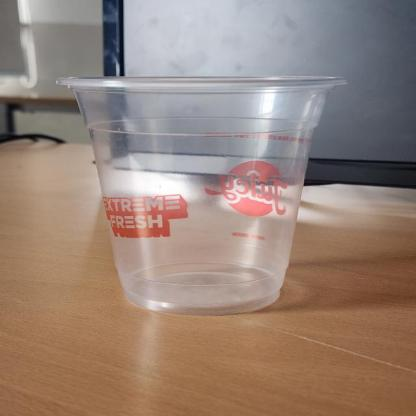Plastic Cup: (57, 74, 349, 318)
